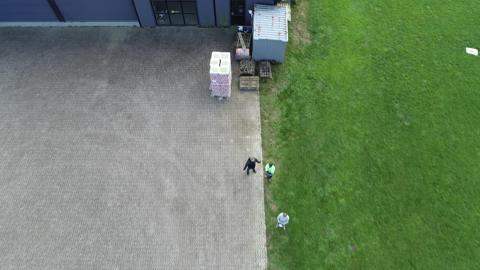RockwoolPallet: (209, 51, 233, 98)
